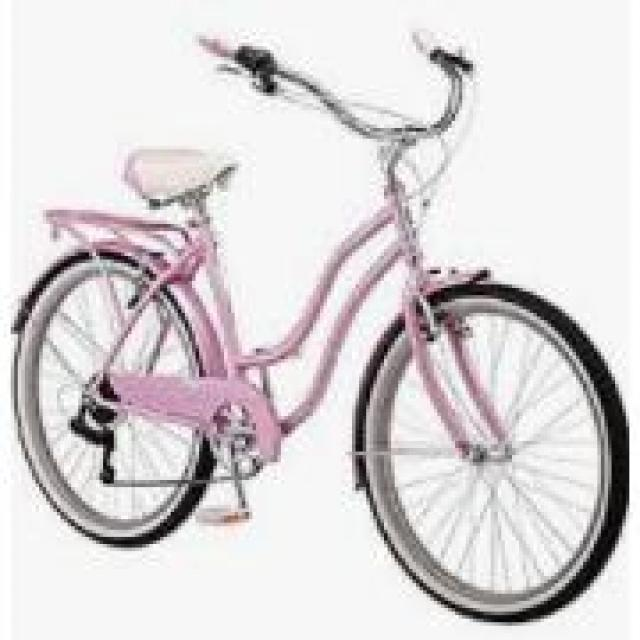bicycle: (12, 44, 627, 631)
